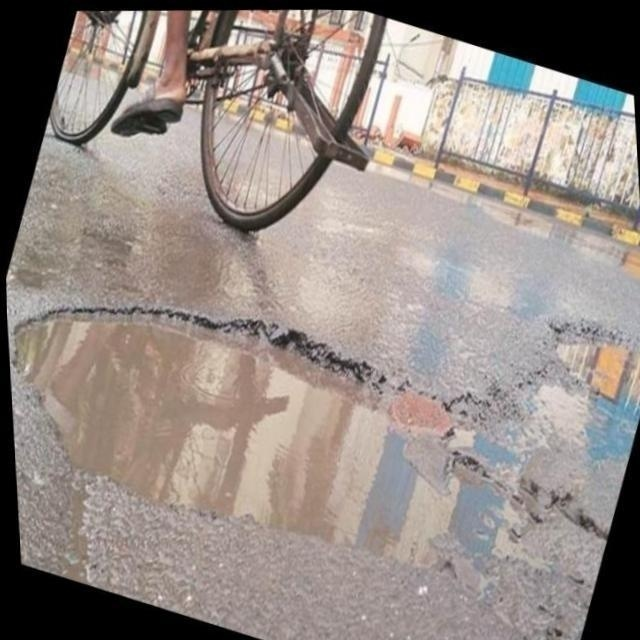pothole: (6, 265, 482, 603), (544, 290, 640, 416)
